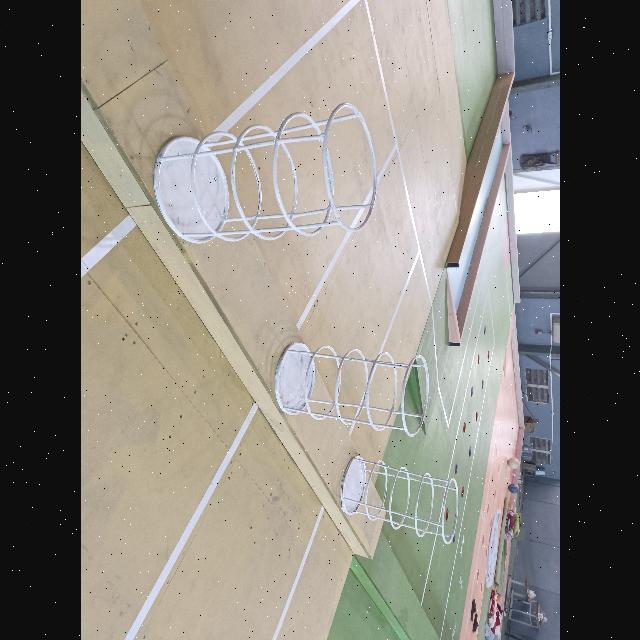S: (156, 105, 375, 242), (272, 341, 429, 437), (340, 456, 459, 545)
